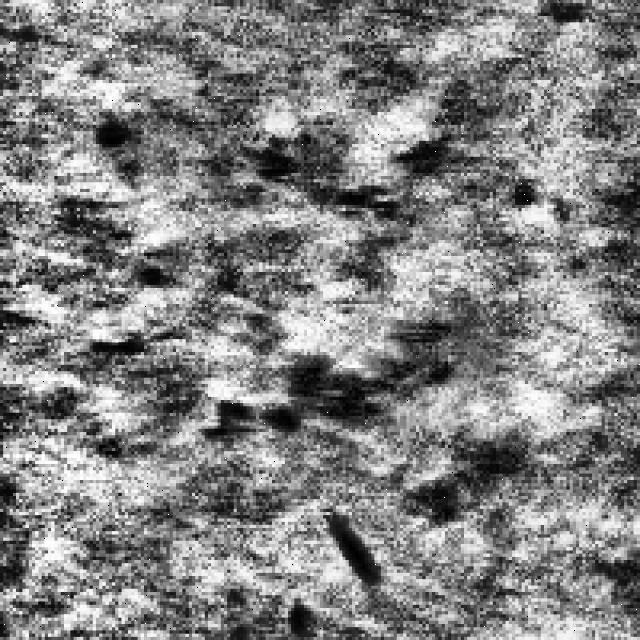Crazing: (182, 263, 470, 442), (253, 122, 454, 225)
